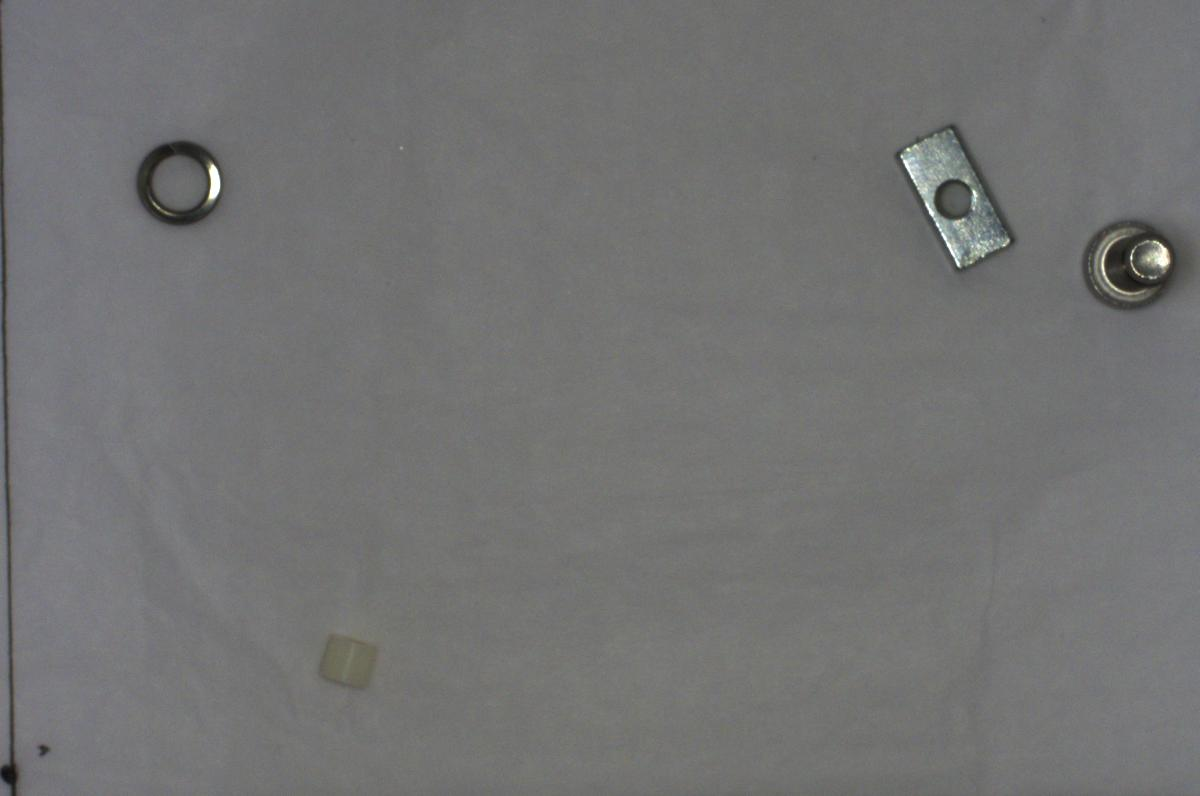Hexagon screw: (1071, 208, 1180, 314)
Plastic cushion pillar: (311, 628, 380, 690)
Rectangular nut: (881, 115, 1027, 287)
Spring washer: (121, 133, 232, 233)
